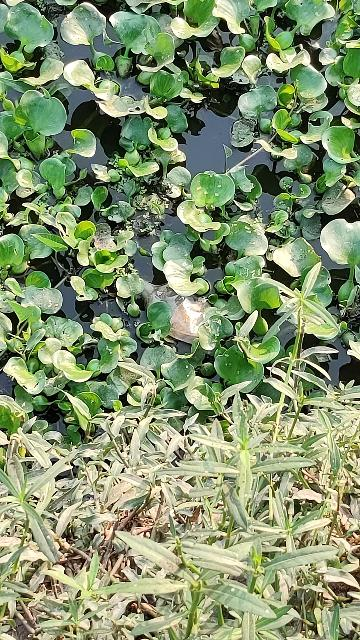bottle: (126, 266, 242, 352)
